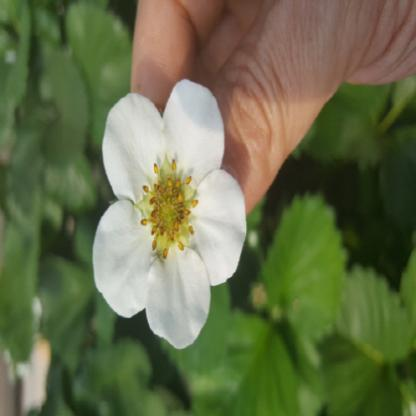Strawberry_Blossom_Blight: (132, 150, 202, 264)
